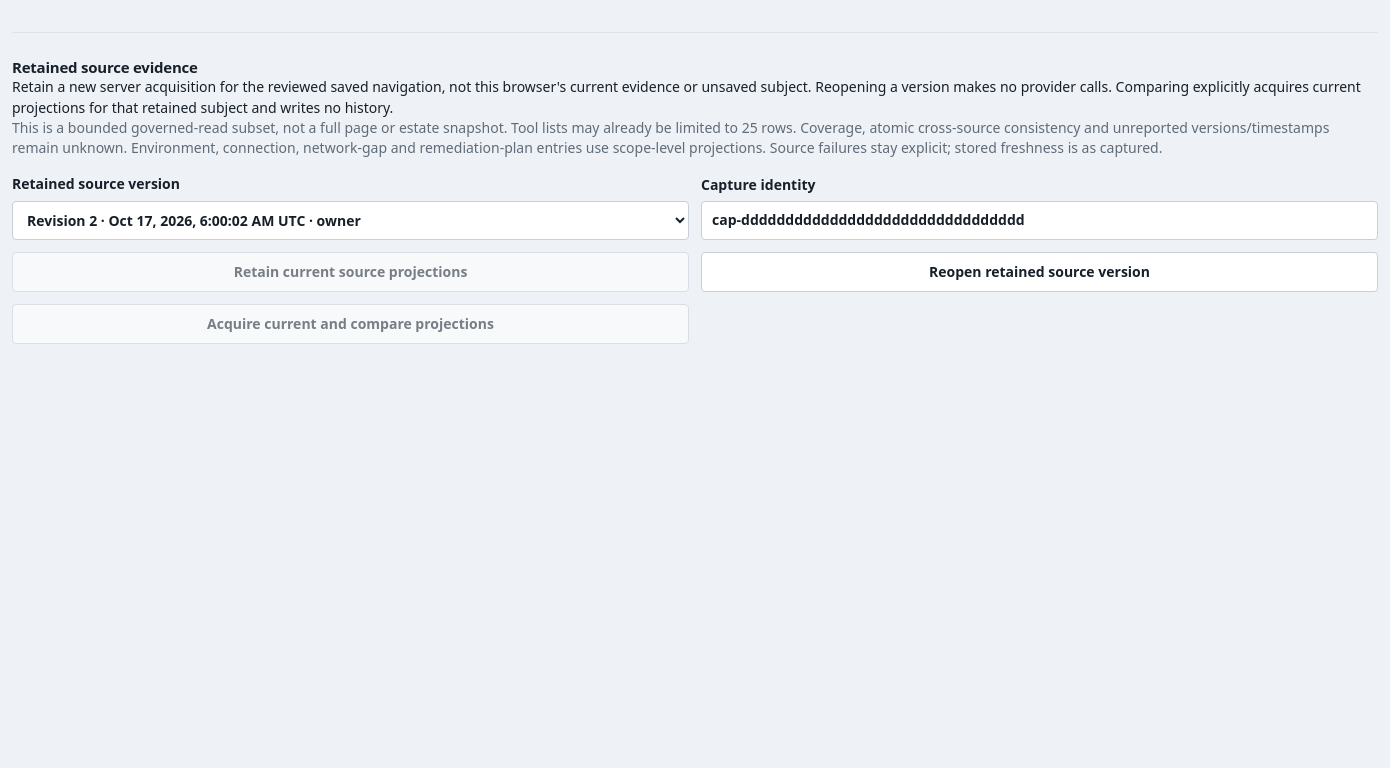
it: retained investigation source evidence › keeps retained and current payloads separate and compares only after explicit action
This screenshot has width=1390, height=768.
Click the button "Reopen retained source version".
click(1040, 272)  # box [701,252,1378,292]
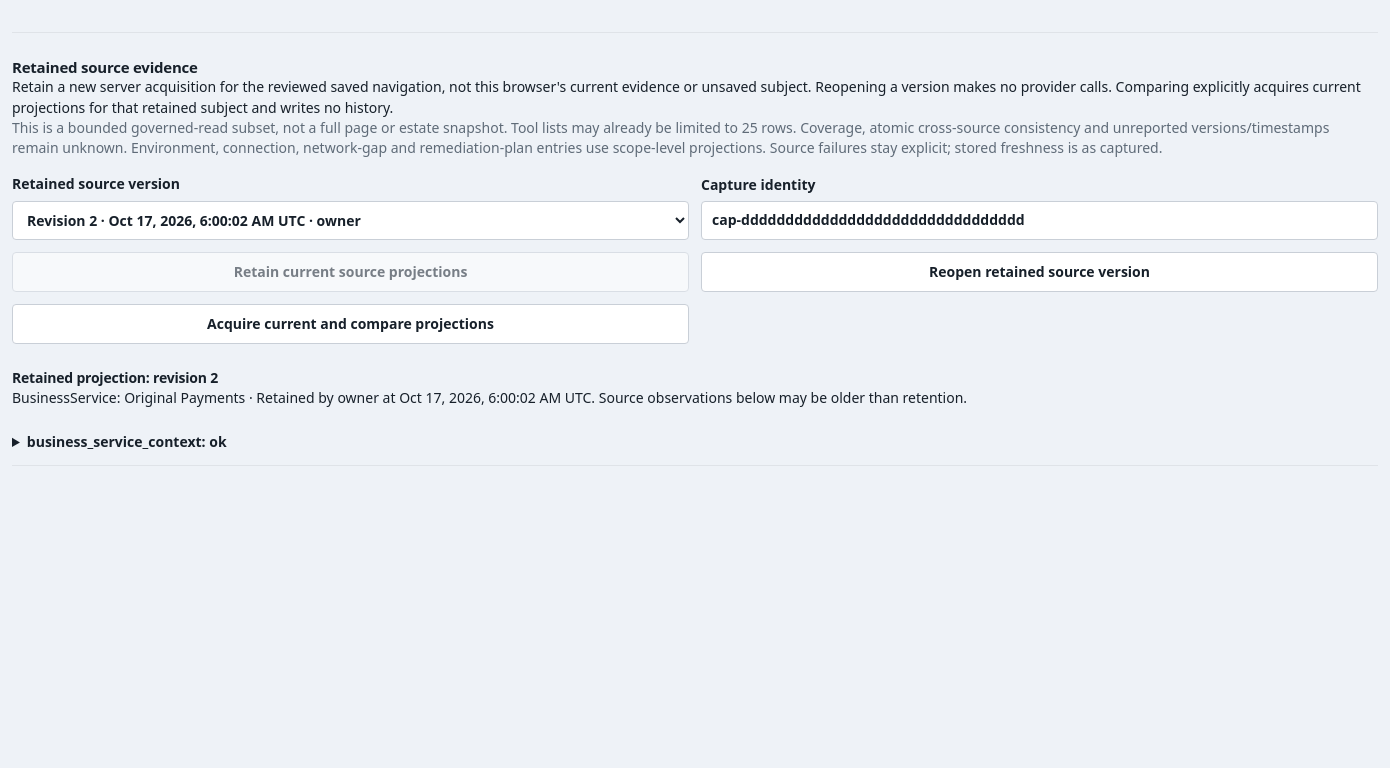
Check: the heading "Retained projection: revision 2" is shown, box [12,368,218,387]
Click the button "Acquire current and compare projections".
click(350, 324)  # box [12,304,689,344]
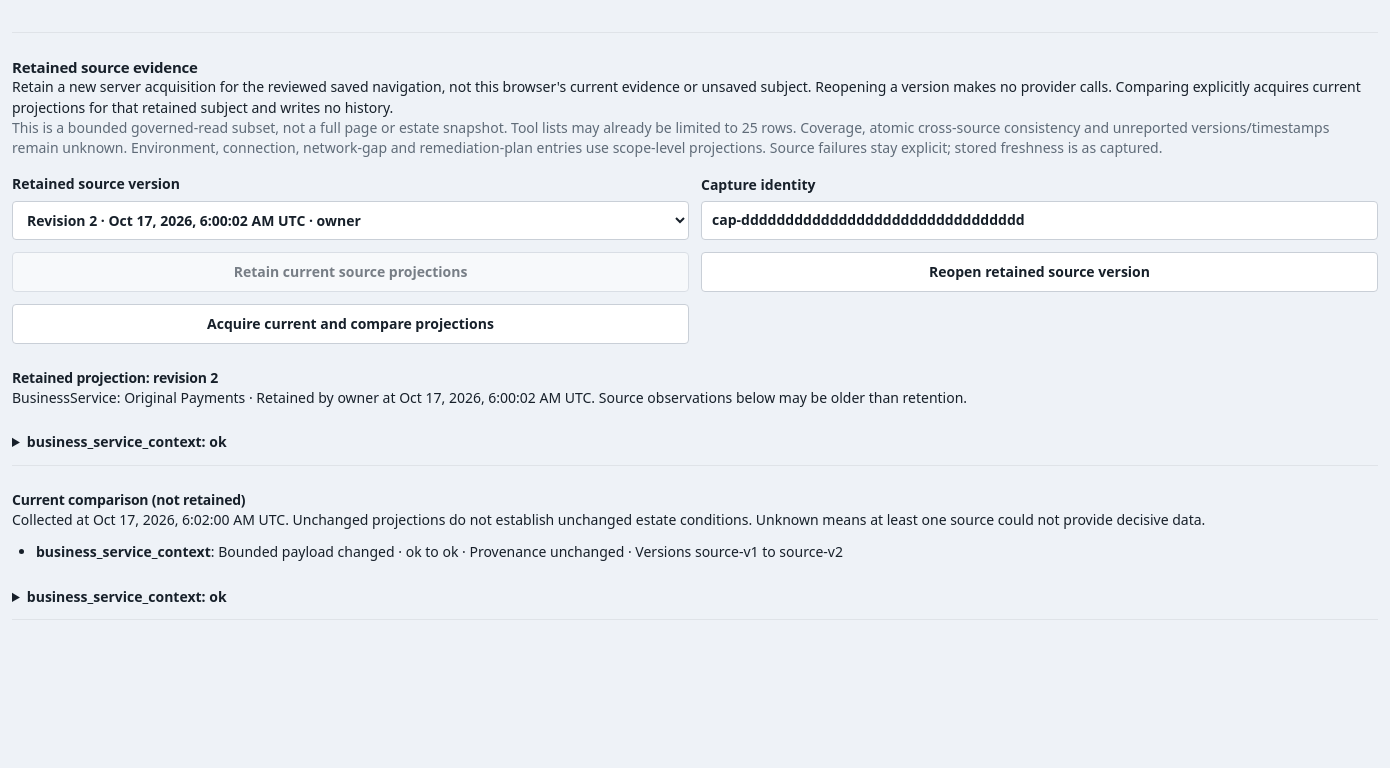
Check: the heading "Current comparison (not retained)" is shown, box [12,490,245,509]
Check: the list item "Bounded payload changed" is shown, box [218,542,395,561]
Check: the list item "source-v1 to source-v2" is shown, box [36,542,843,561]
